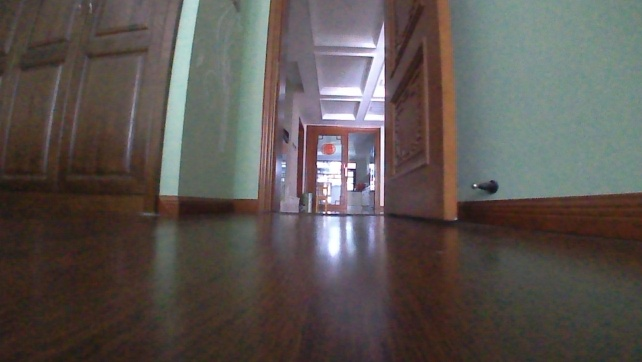door_anno: (380, 0, 461, 225)
